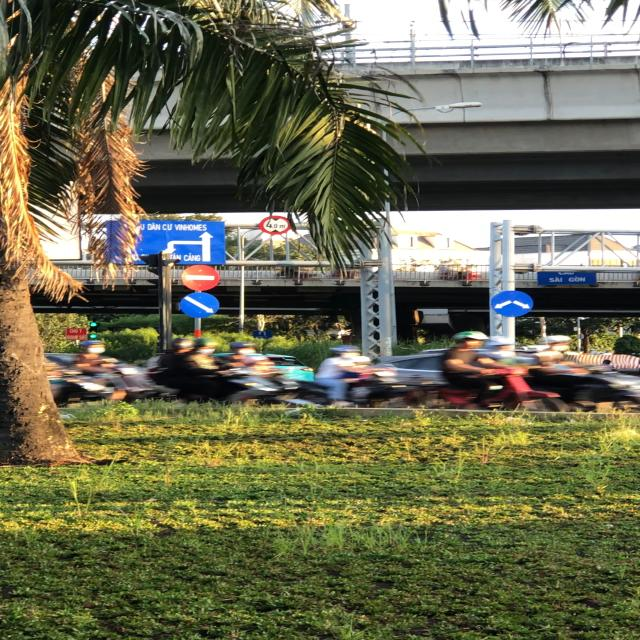Bien bao cam di nguoc chieu: (179, 263, 224, 293)
